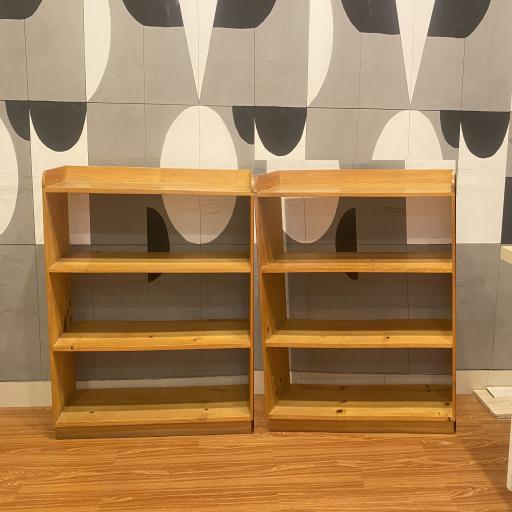lemari: (38, 161, 254, 439), (254, 160, 456, 437)
